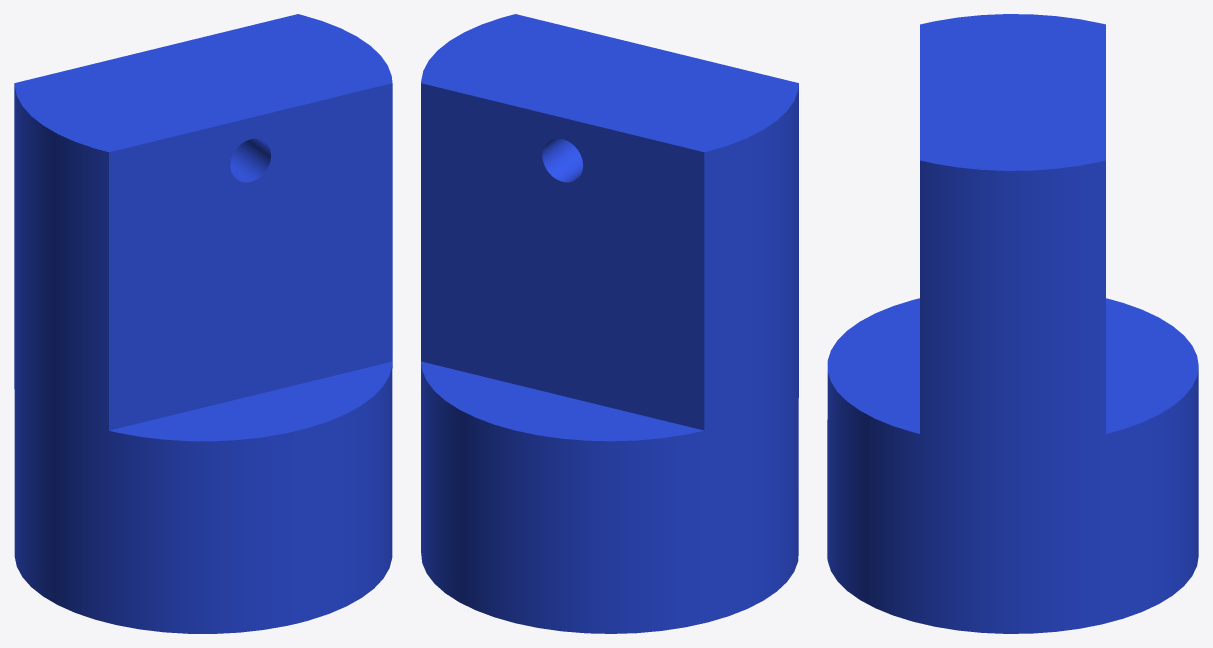
3 views of the same model, side by side, from view 1: azimuth 30°, elevation 25°; view 2: azimuth 150°, elevation 25°; view 3: azimuth 270°, elevation 25° (orthographic).
Visible parts, largest first — view 1: color; view 2: color; view 3: color.
Part boxes in pixels (box(x1,y1,x2,y2)): color: box(14, 14, 392, 633); color: box(421, 14, 798, 633); color: box(827, 14, 1198, 633).
Bounding box in the file's own units: 10.15 × 13.97 × 10.16.
